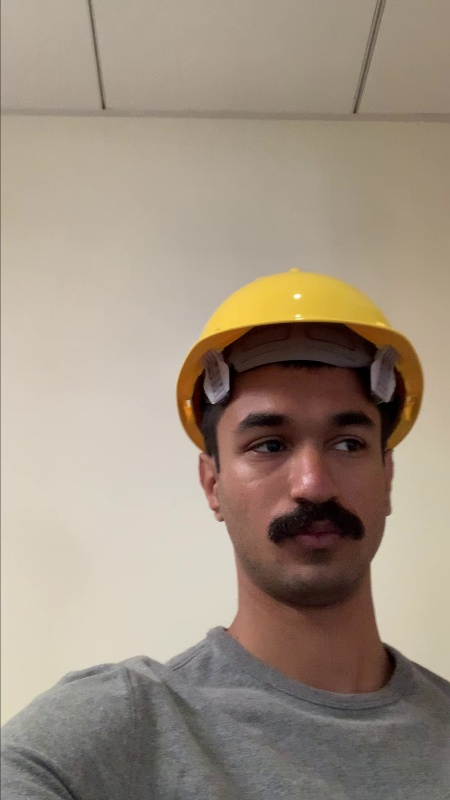helmet: (166, 262, 431, 420)
